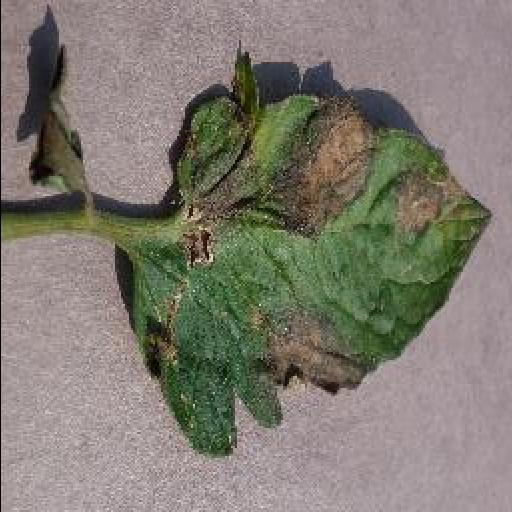disease_tomato: (126, 56, 490, 458)
